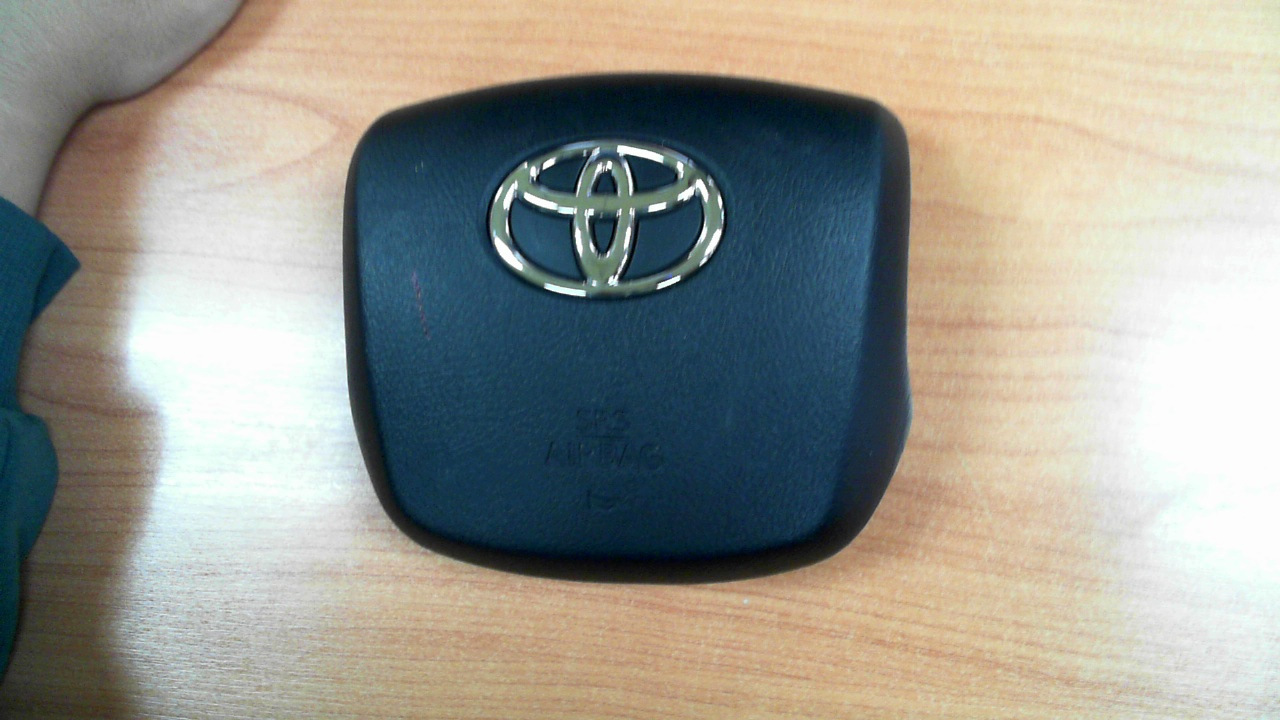Airbag: (342, 71, 913, 586)
Toyota: (489, 139, 725, 287)
